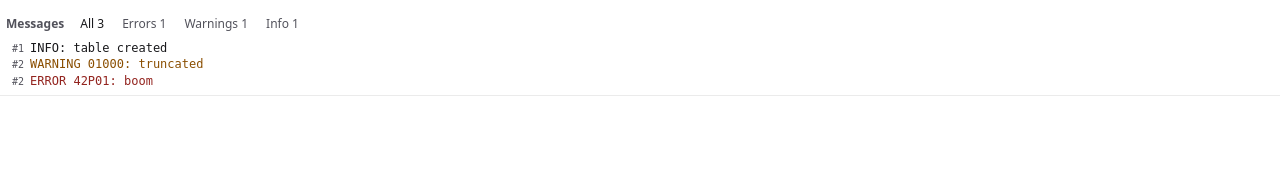
Scenario: filters server messages by level and labels their statements
Check: the number of list items is 3, box [12,41,167,55]; [12,57,204,71]; [12,74,153,88]
Check: the list named "Messages" shows "#2WARNING 01000: truncated", box [12,41,204,88]
Click the button "Warnings 1".
click(216, 24)  # box [176,14,256,34]
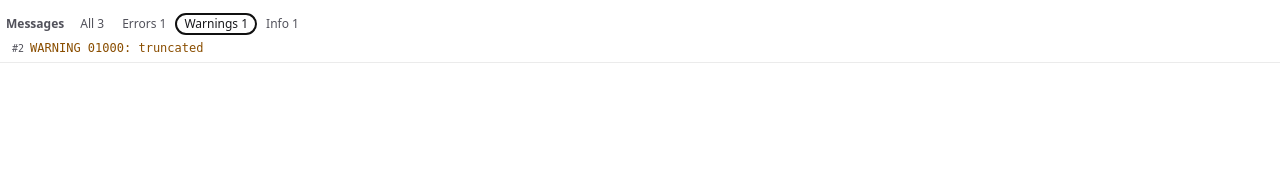
Check: the number of list items is 1, box [12,41,204,55]
Click the button "Info 1".
click(283, 24)  # box [258,14,307,34]
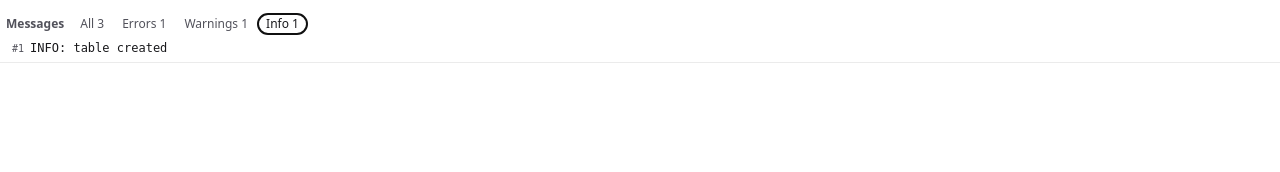
Check: the list named "Messages" shows "INFO: table created", box [30,41,167,55]
